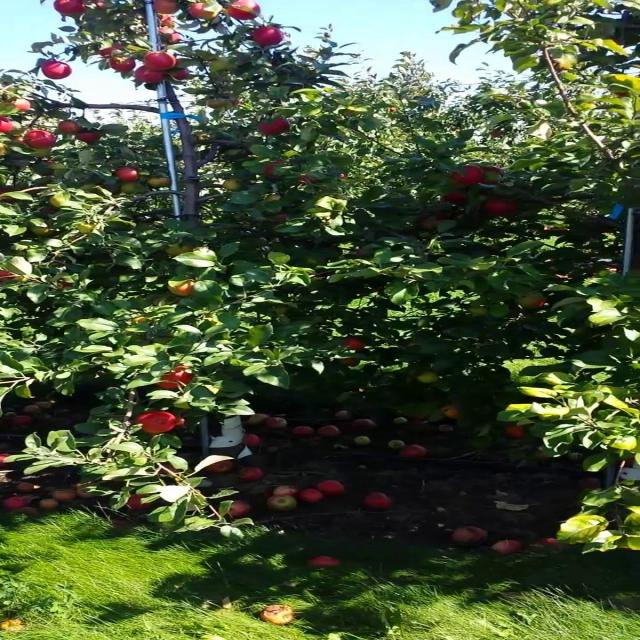apple: (134, 412, 178, 436), (156, 368, 194, 392), (227, 0, 263, 21), (447, 168, 484, 186), (42, 60, 73, 80), (483, 200, 519, 217), (255, 28, 284, 48), (148, 52, 178, 71), (134, 68, 167, 84), (106, 56, 137, 73), (156, 28, 185, 45), (170, 280, 199, 297), (262, 120, 292, 136), (518, 296, 549, 311), (28, 132, 57, 148), (56, 0, 85, 16), (191, 4, 219, 20), (340, 336, 368, 352), (56, 120, 84, 135), (99, 44, 128, 58), (419, 216, 446, 231), (163, 244, 194, 257), (262, 160, 284, 178), (483, 168, 505, 185), (440, 192, 469, 204), (156, 0, 180, 14), (120, 184, 148, 196), (28, 224, 55, 236), (212, 60, 238, 72), (13, 100, 36, 113), (468, 304, 491, 317), (77, 132, 101, 144), (220, 180, 244, 192), (49, 196, 73, 208), (120, 168, 142, 181), (148, 176, 171, 188), (419, 372, 441, 384), (170, 68, 192, 80), (340, 356, 363, 367), (205, 100, 229, 110), (447, 404, 462, 420), (77, 224, 98, 234), (198, 52, 220, 61), (6, 188, 18, 204), (276, 212, 292, 223), (298, 176, 320, 184), (6, 272, 25, 281), (163, 16, 178, 27), (99, 184, 117, 191), (42, 208, 59, 215), (42, 160, 57, 167), (6, 120, 14, 132), (92, 4, 108, 9), (63, 284, 71, 288)
